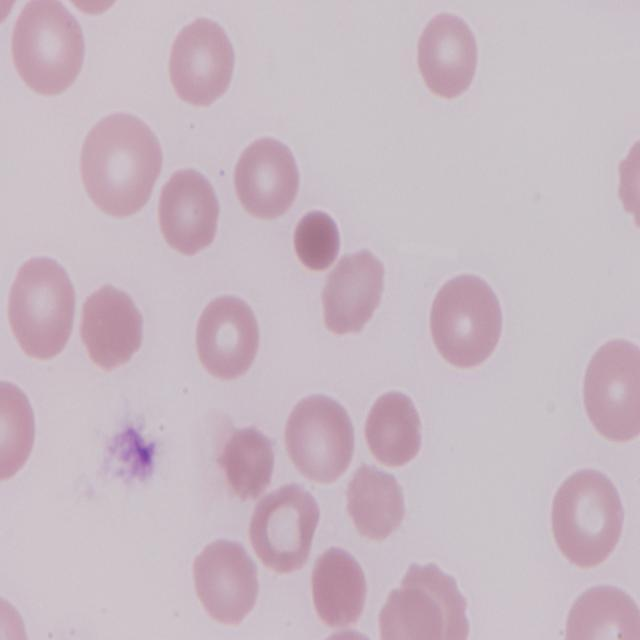RBC: (78, 109, 166, 218), (546, 462, 628, 573), (3, 252, 78, 362), (428, 270, 507, 370), (281, 390, 361, 486), (8, 2, 86, 100), (248, 479, 324, 576), (577, 334, 640, 444), (192, 531, 265, 625), (169, 13, 239, 108), (194, 290, 265, 382), (73, 280, 144, 372), (416, 9, 484, 102), (154, 164, 221, 258), (232, 133, 300, 224), (322, 244, 390, 335), (344, 461, 409, 547), (308, 542, 371, 630), (362, 386, 426, 466), (561, 585, 640, 640), (1, 375, 39, 488), (0, 581, 33, 640)
Spherocyte: (292, 207, 340, 272)
